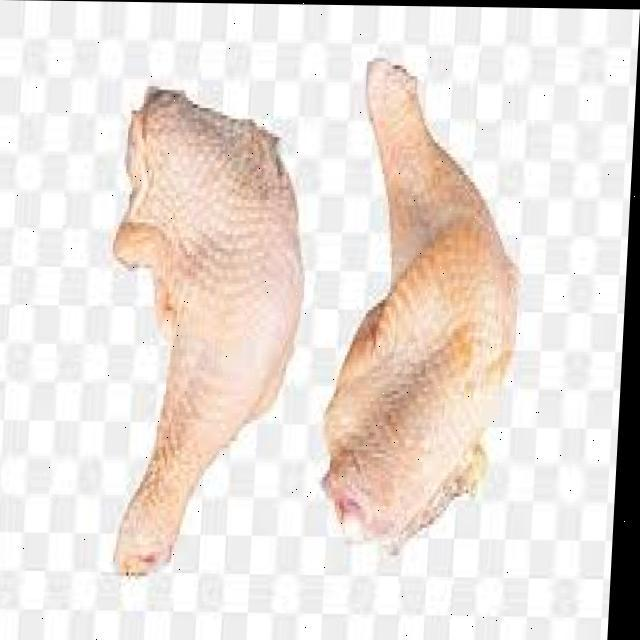quater: (92, 92, 320, 593), (329, 61, 533, 540)
